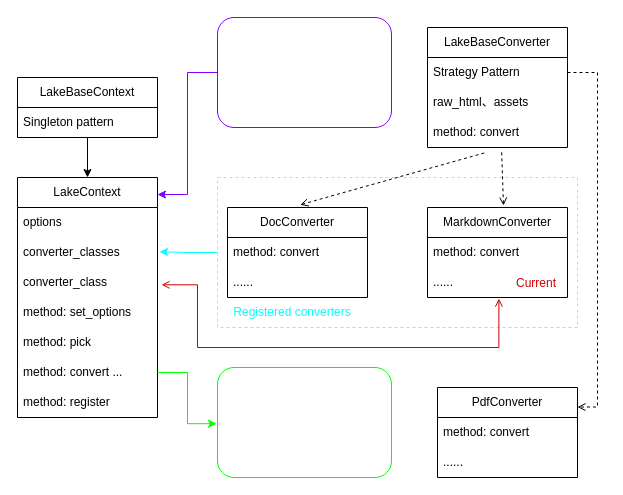
The diagram is 623 pixels wide and 495 high, and some of its shapes have lost their labels. Each missing label, with the centre of its shape:
Lake Document: the point at 304,72
Target Document: the point at 304,422
